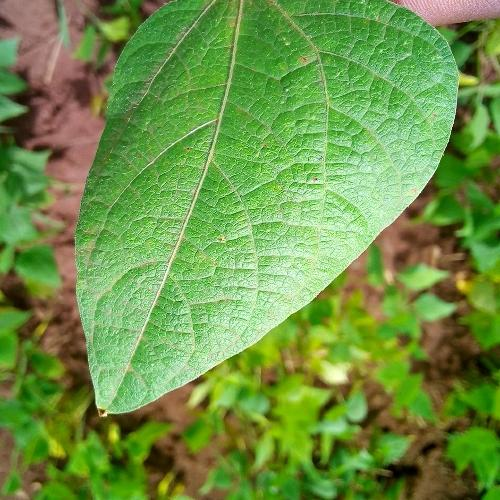sehat: (142, 28, 417, 172)
